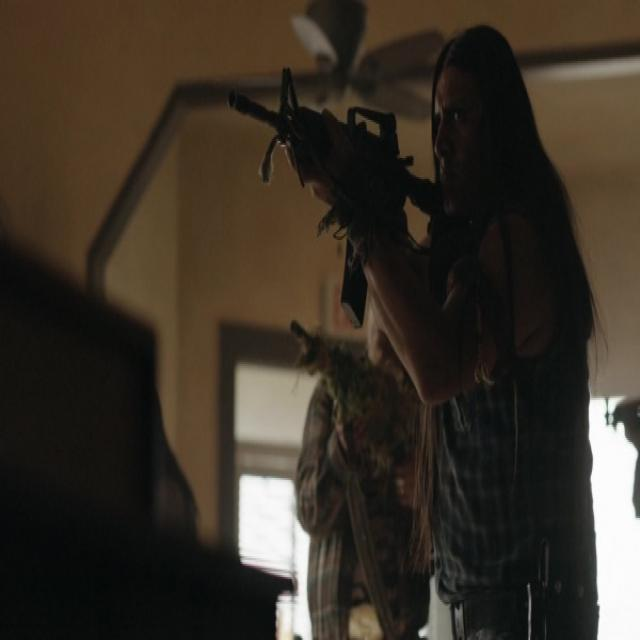rifle: (228, 61, 441, 329)
